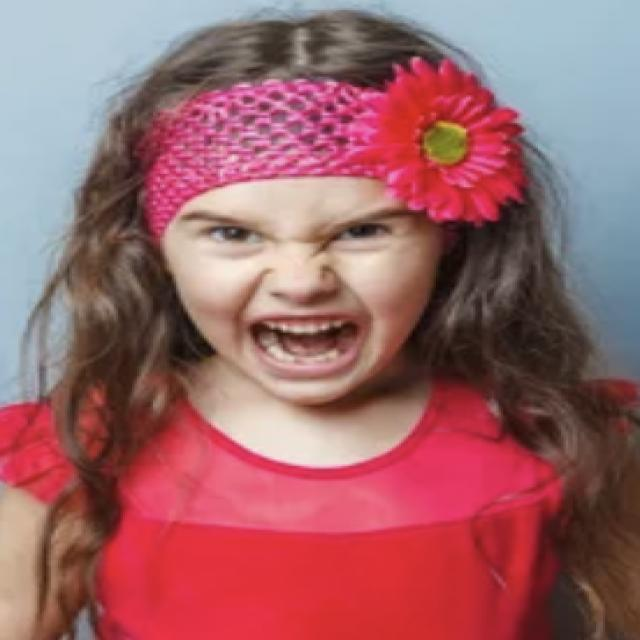angry: (151, 151, 442, 421)
